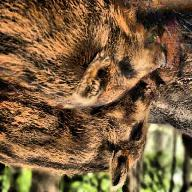boar: (1, 0, 172, 112), (0, 75, 162, 188)
